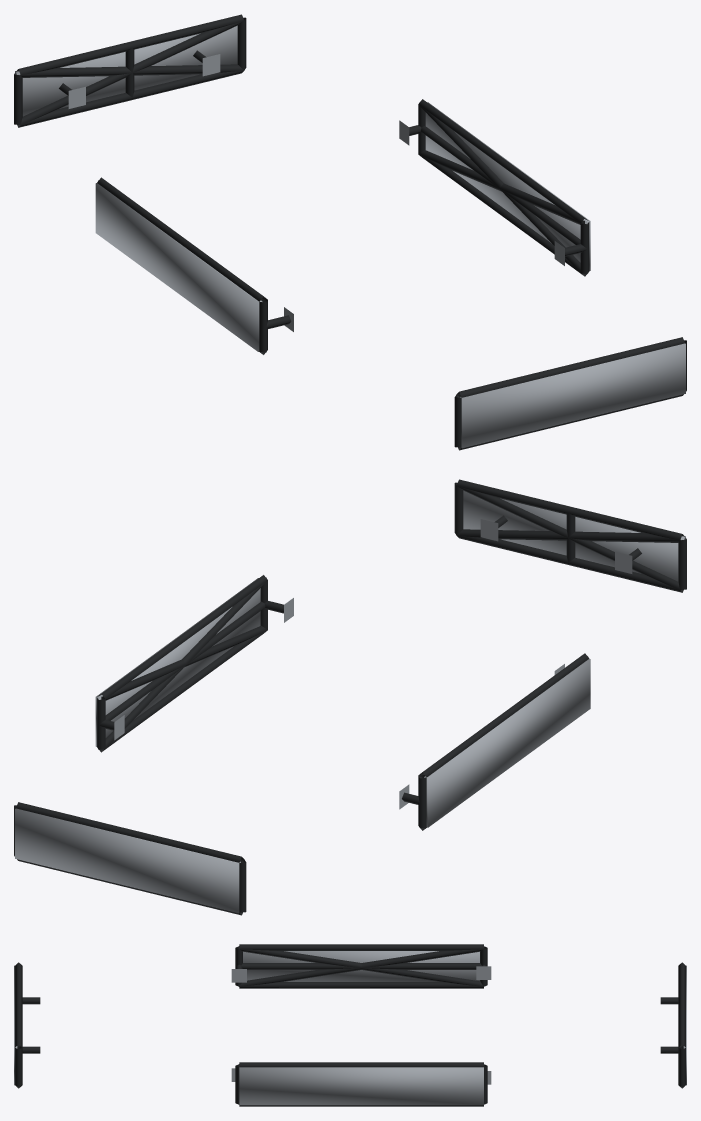
File: whitlock_cavalo_protecao.glb
3 views of the same model, one above another, from view 1: azimuth 30°, elevation 25°; view 2: azimuth 150°, elevation 25°; view 3: azimuth 270°, elevation 25° (orthographic). The views are drawn at different scales.
Visible parts, largest first — view 1: Protection_front_Level3_Details, Protection_left_Level3_Details, Protection_rear_Level1_Details, Protection_rear_Level3_Details, Protection_right_Level1_Details, Protection_right_Level2_Details, Protection_rear_Level2_Details, Protection_right_Level3_Details, Protection_front_Level1_Details, Protection_left_Level1_Details; view 2: Protection_rear_Level3_Details, Protection_left_Level3_Details, Protection_front_Level1_Details, Protection_front_Level3_Details, Protection_right_Level1_Details, Protection_right_Level2_Details, Protection_front_Level2_Details, Protection_right_Level3_Details, Protection_rear_Level1_Details, Protection_left_Level1_Details; view 3: Protection_right_Level3_Details, Protection_left_Level2_Details, Protection_left_Level1_Details, Protection_left_Level3_Details, Protection_right_Level1_Details, Protection_rear_Level1_Details, Protection_front_Level1_Details.
Boxes of the visible parts, x1,y1,x2,y2 form: Protection_front_Level3_Details: (460, 343, 685, 448); Protection_left_Level3_Details: (95, 183, 262, 351); Protection_rear_Level1_Details: (14, 14, 246, 127); Protection_rear_Level3_Details: (15, 25, 237, 116); Protection_right_Level1_Details: (399, 99, 589, 276); Protection_right_Level2_Details: (418, 105, 588, 276); Protection_rear_Level2_Details: (16, 21, 243, 126); Protection_right_Level3_Details: (425, 102, 590, 271); Protection_front_Level1_Details: (454, 337, 686, 450); Protection_left_Level1_Details: (97, 177, 293, 354); Protection_rear_Level3_Details: (15, 808, 240, 913); Protection_left_Level3_Details: (424, 658, 590, 827); Protection_front_Level1_Details: (454, 479, 686, 592); Protection_front_Level3_Details: (463, 490, 685, 581); Protection_right_Level1_Details: (97, 575, 293, 752); Protection_right_Level2_Details: (97, 580, 267, 751); Protection_front_Level2_Details: (457, 486, 684, 591); Protection_right_Level3_Details: (95, 578, 260, 746); Protection_rear_Level1_Details: (14, 802, 246, 915); Protection_left_Level1_Details: (399, 653, 588, 830); Protection_right_Level3_Details: (239, 1067, 483, 1105); Protection_left_Level2_Details: (239, 947, 484, 986); Protection_left_Level1_Details: (231, 944, 491, 988); Protection_left_Level3_Details: (243, 951, 479, 981); Protection_right_Level1_Details: (231, 1062, 491, 1106); Protection_rear_Level1_Details: (660, 962, 685, 1088); Protection_front_Level1_Details: (15, 962, 40, 1088).
Bounding box in the file's own units: 2.09 × 0.354 × 4.87.
Materials: 1 (1 with a texture image).
